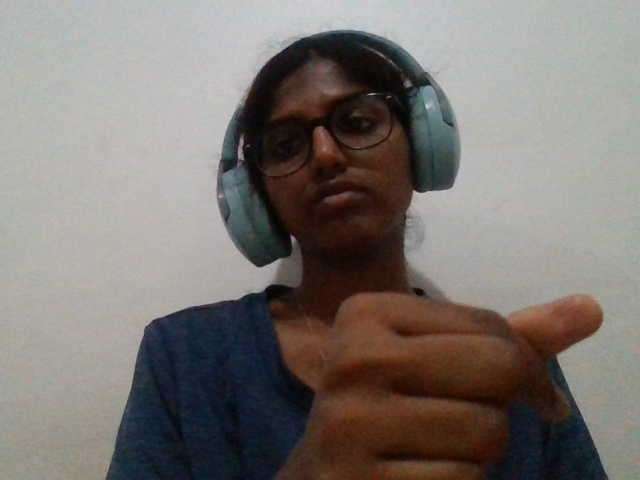G: (284, 241, 623, 480)
